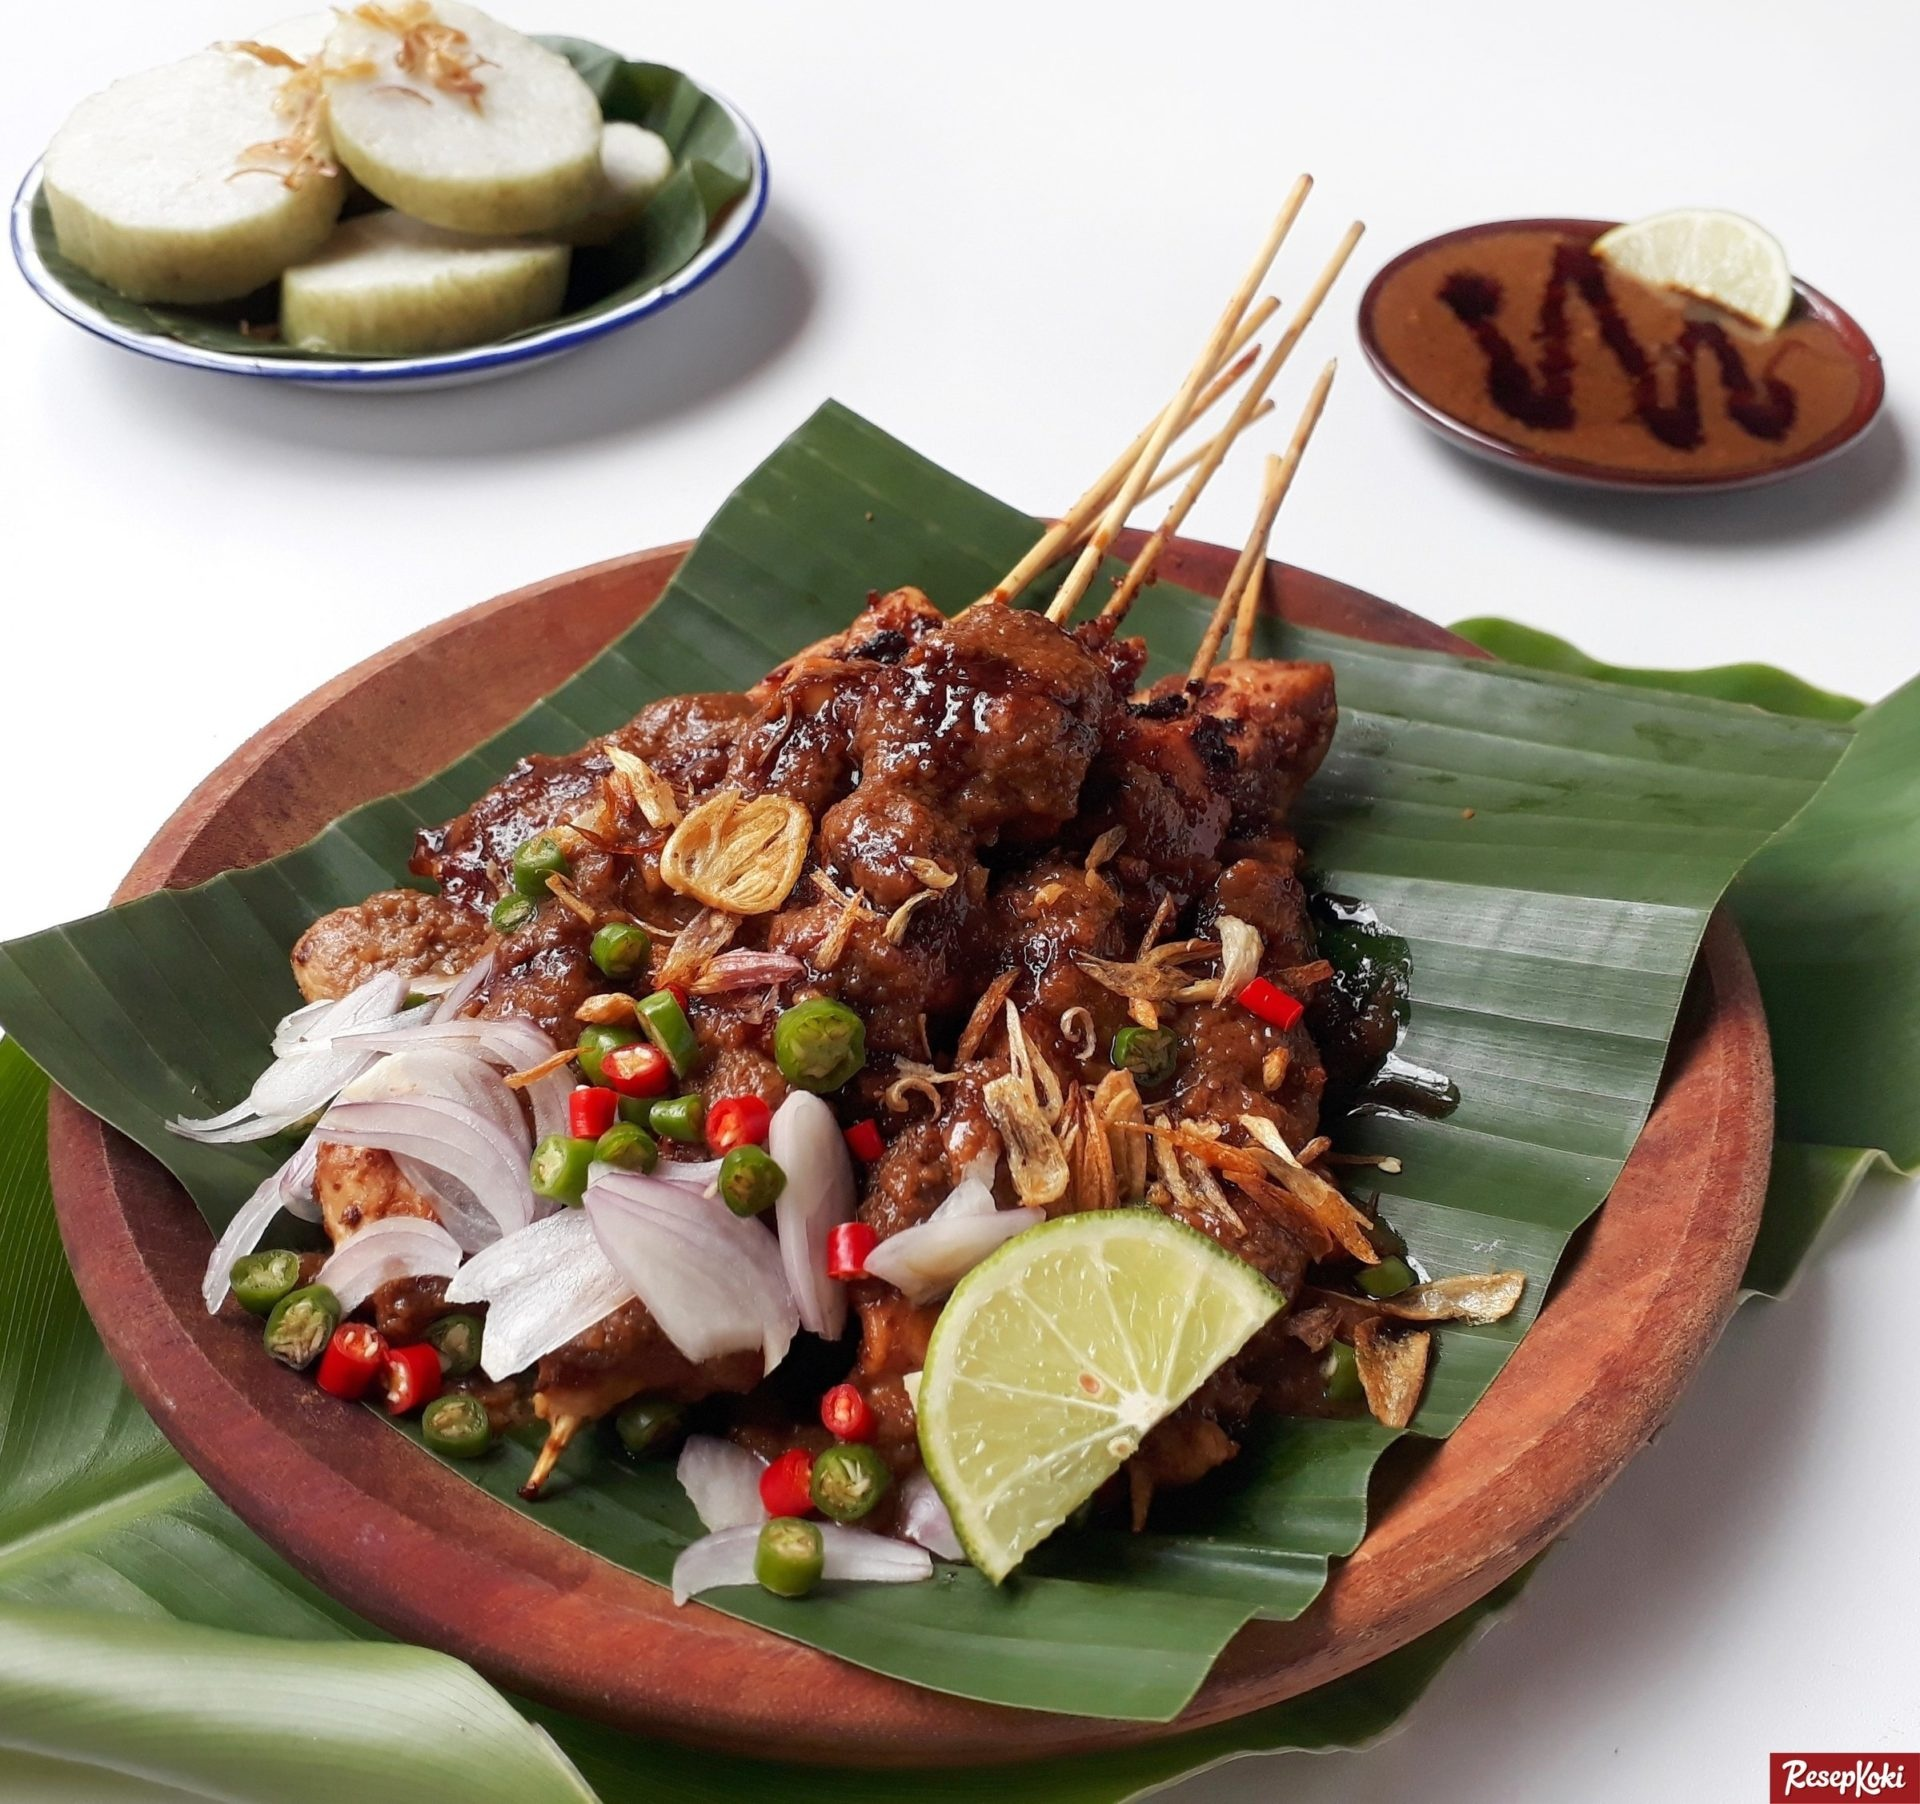sate: (276, 497, 1469, 1580)
